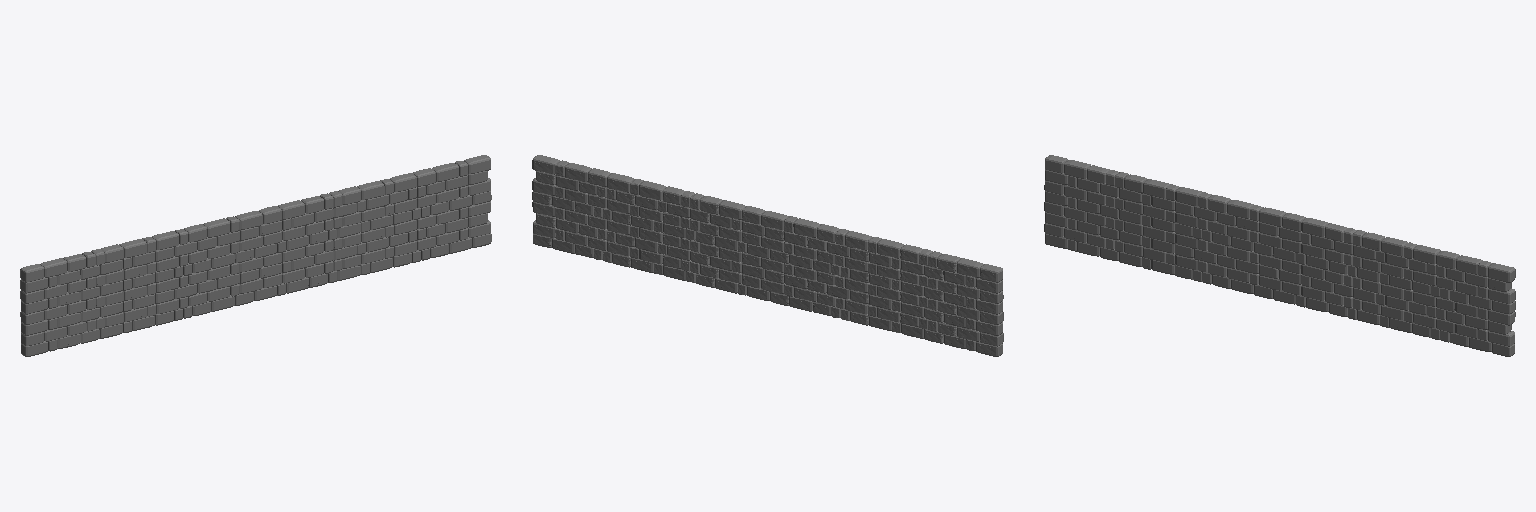
The robot description file, URDF, robot "urdf_wall":
<?xml version="1.0" ?>
<robot name="urdf_wall">
 <link name="world"/>
  <joint name="fixed" type="fixed">
    <parent link="world"/>
    <child link="baseLink"/>
    <origin xyz="0 0 0"/>
  </joint>

  <link name="baseLink">
    <inertial>
      <origin rpy="1.57 0 0" xyz="0 0 0"/>
       <mass value="0.1"/>
       <inertia ixx="0.1" ixy="0" ixz="0" iyy="0.1" iyz="0" izz="0.1"/>
    </inertial>
    <visual>
        <origin xyz='0 0 0' rpy='1.57 0 0'/>
    <geometry>
     <mesh filename="walls.obj"  scale="0.01 0.01 0.01" />
    </geometry>
    <material name="gray">
        <color rgba="0.509 0.509 0.509 1"/>
    </material>
    </visual>
    <collision>
        <origin xyz='0 0 0' rpy='1.57 0 0'/>
    <geometry>
     <mesh filename="walls.obj"  scale="0.01 0.01 0.01" />
    </geometry>
    </collision>
  </link>

  <link name="wall2">
    <inertial>
      <origin rpy="1.57 0 0" xyz="0 0 0"/>
       <mass value="0.1"/>
       <inertia ixx="0.1" ixy="0" ixz="0" iyy="0.1" iyz="0" izz="0.1"/>
    </inertial>
    <visual>
        <origin xyz='0 0 0' rpy='1.57 0 0'/>
    <geometry>
     <mesh filename="walls.obj"  scale="0.01 0.01 0.01" />
    </geometry>
    <material name="gray">
        <color rgba="0.509 0.509 0.509 1"/>
    </material>
    </visual>
    <collision>
        <origin xyz='0 0 0' rpy='1.57 0 0'/>
    <geometry>
     <mesh filename="walls.obj"  scale="0.01 0.01 0.01" />
    </geometry>
    </collision>
  </link>

  <joint name="wall2_joint" type="fixed">
    <parent link="baseLink"/>
    <child link="wall2"/>
    <origin xyz="0.0 0 0.05"/>
  </joint>

</robot>

--- Render facts (derived) ---
3 views of the same robot in one strip: view 1: azimuth 30°, elevation 25°; view 2: azimuth 150°, elevation 25°; view 3: azimuth 330°, elevation 25° (orthographic).
Robot: urdf_wall — 3 links, 2 joints (2 fixed); root link world; default pose: all joints at 0.
Links seen in each view (by area): view 1: wall2, baseLink; view 2: baseLink, wall2; view 3: wall2, baseLink.
Link boxes in pixels (x1,y1,x2,y2): wall2: [20, 155, 491, 354]; baseLink: [20, 167, 491, 356]; baseLink: [532, 162, 1003, 356]; wall2: [532, 155, 1003, 353]; wall2: [1044, 155, 1515, 353]; baseLink: [1044, 167, 1515, 356].
Size in the robot's own frame: 14.07 by 0.3218 by 2.51 metres.
2 mesh visuals loaded from 1 distinct referenced files (1 OBJ).